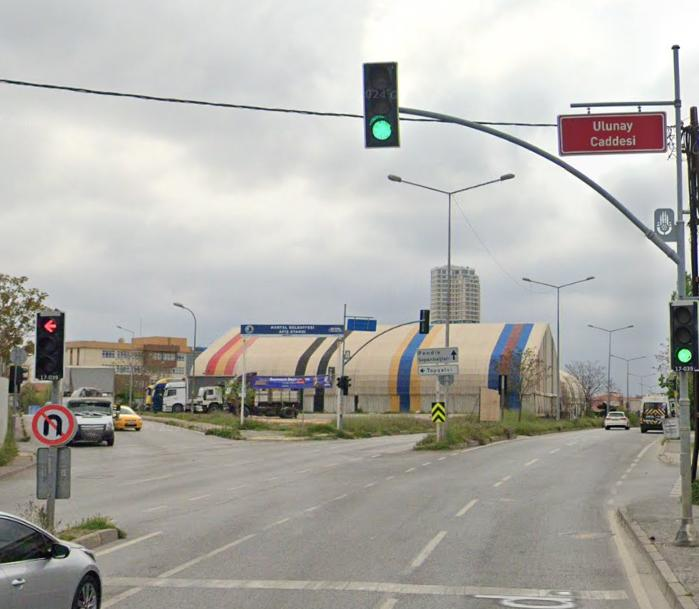greenlight: (363, 62, 401, 146), (670, 300, 698, 366)
redlight: (39, 315, 61, 372)
